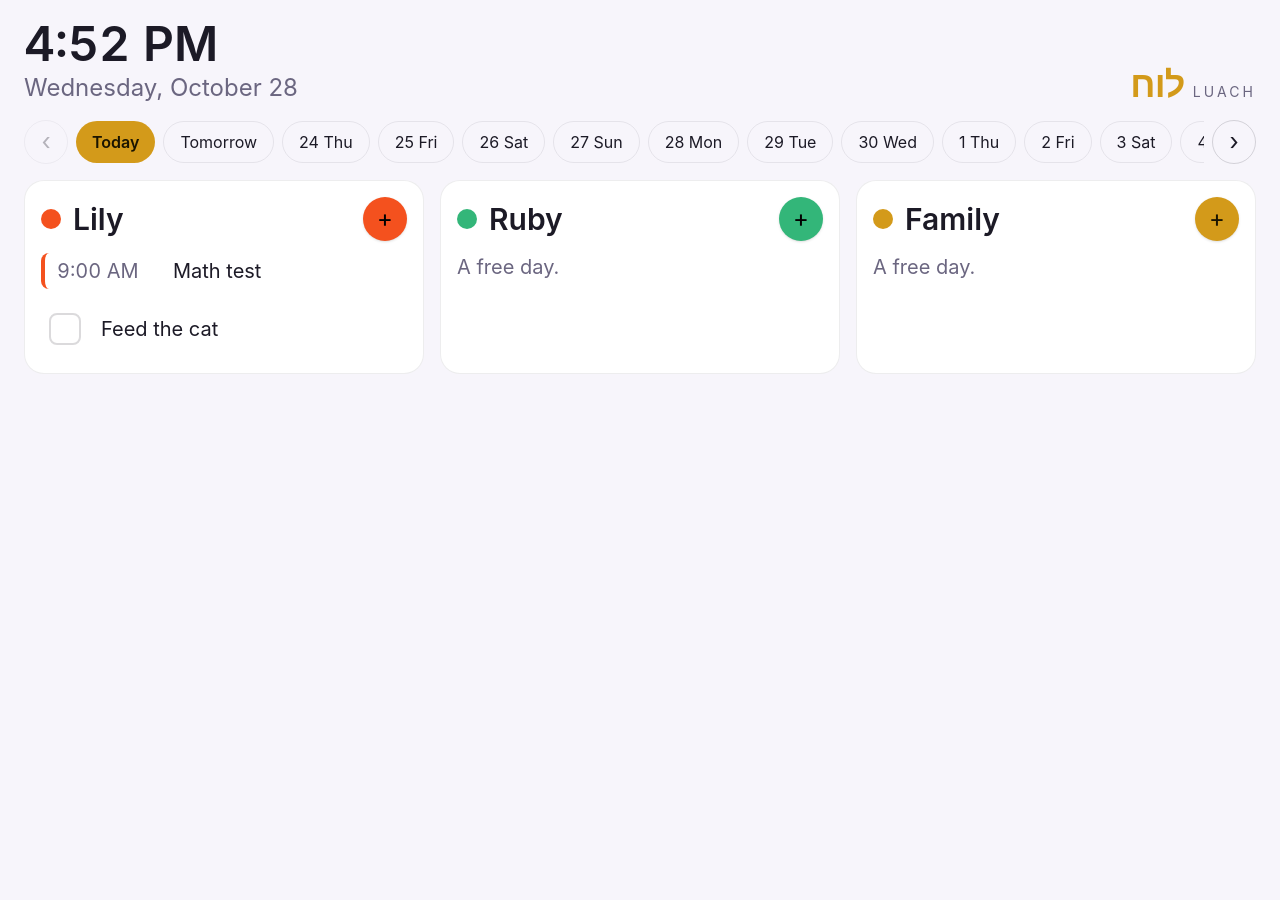
holding a card on the board › a quick tap still opens it
Expected: the element "Lily" is shown, [24,180,424,374]
Press the mouse on the list item "Feed the cat" at coordinates (224, 329), box [41,301,407,357]
Click the button "Feed the cat". click: coordinates (160, 329)
box: [93,301,407,357]
Wait 900 ms
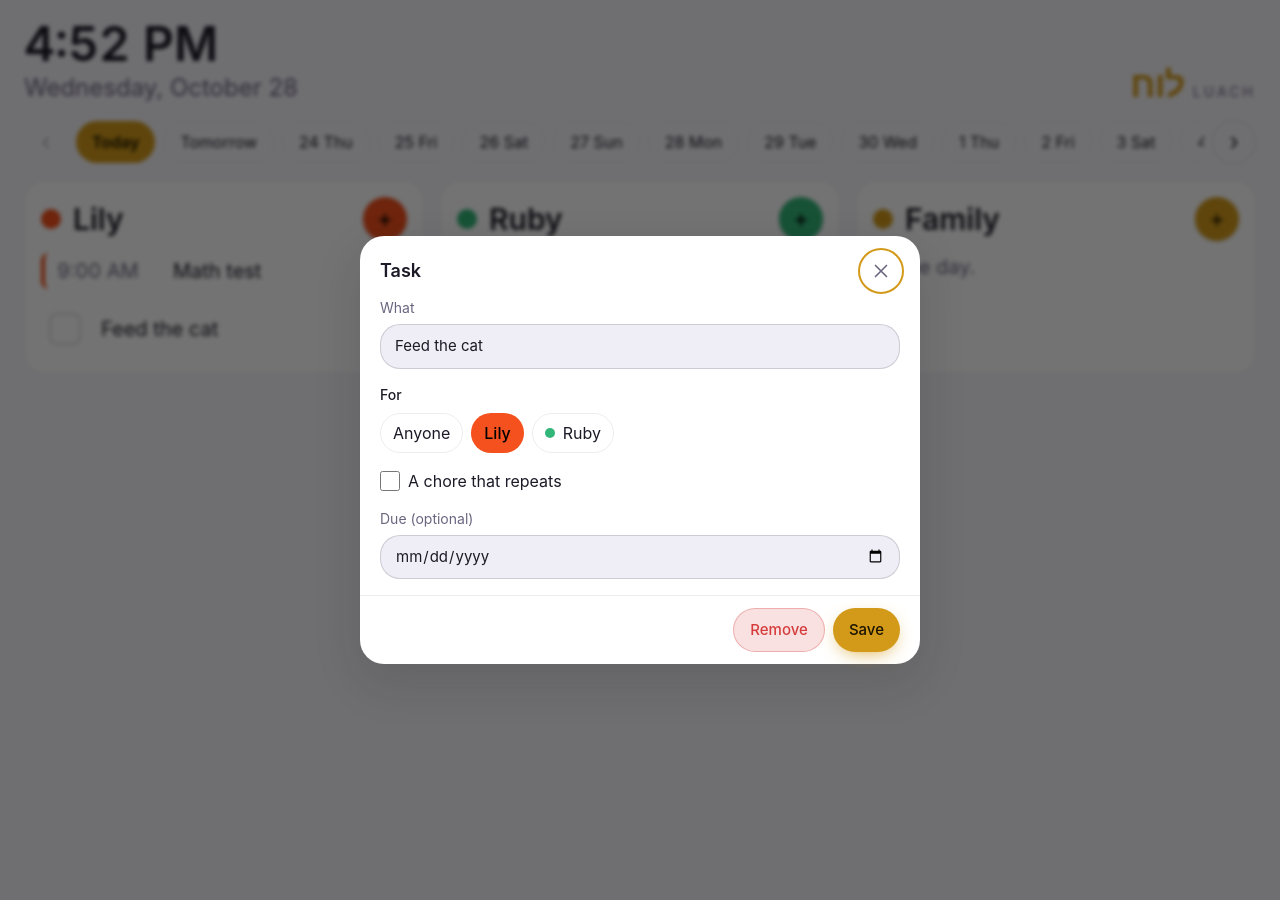
Expected: the dialog "Task" is shown, [360,236,920,664]
